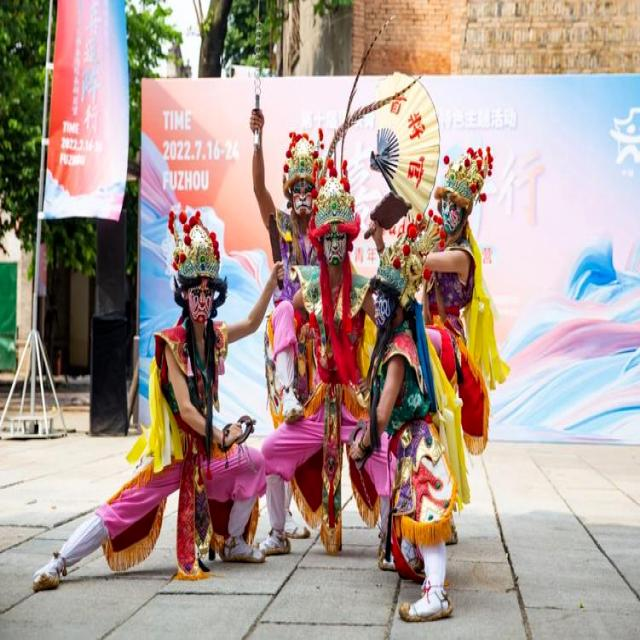Reeves-s Pheasant: (326, 15, 400, 157)
